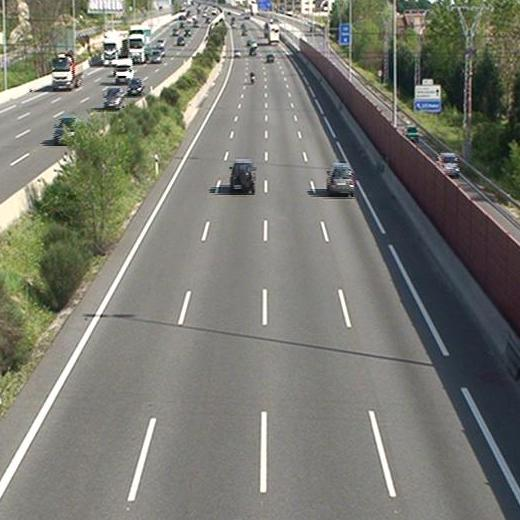car: (229, 160, 256, 193), (327, 163, 353, 195), (266, 53, 274, 61)
motorcycle: (248, 71, 255, 84)
